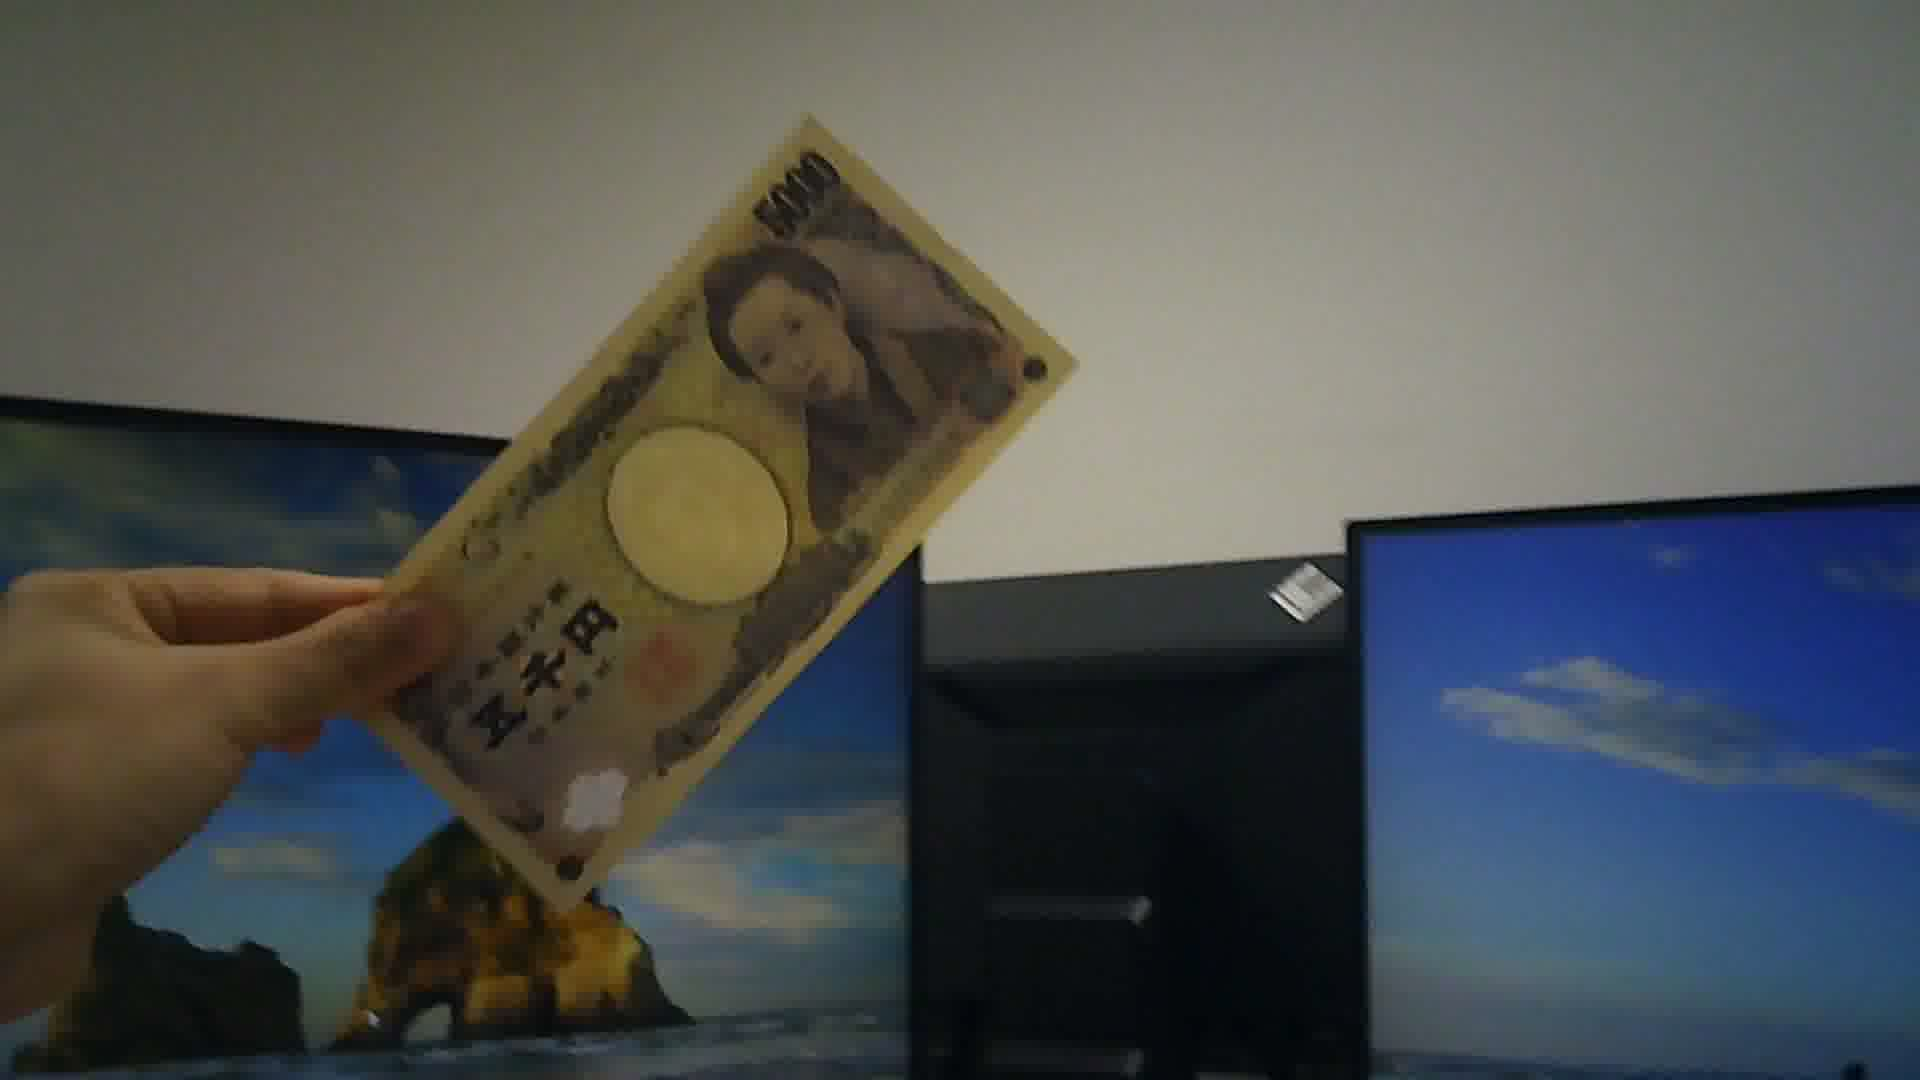5,000 Yen: (324, 98, 1081, 887)
